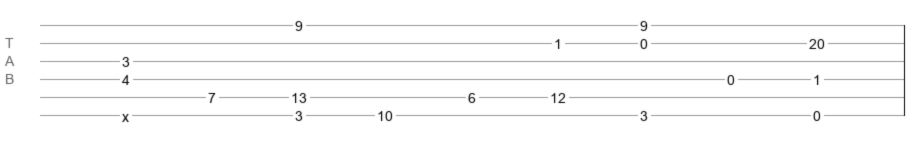0: (640, 36, 648, 46), (727, 72, 735, 82), (813, 108, 821, 118)
1: (554, 36, 562, 46), (813, 72, 821, 82)
10: (377, 108, 393, 118)
12: (550, 90, 566, 100)
13: (291, 90, 307, 100)
20: (809, 36, 825, 46)
3: (122, 54, 130, 64), (295, 108, 303, 118), (640, 108, 648, 118)
4: (122, 72, 130, 82)
6: (468, 90, 476, 100)
7: (208, 90, 216, 100)
9: (295, 18, 303, 28), (640, 18, 648, 28)
x: (122, 109, 129, 117)
